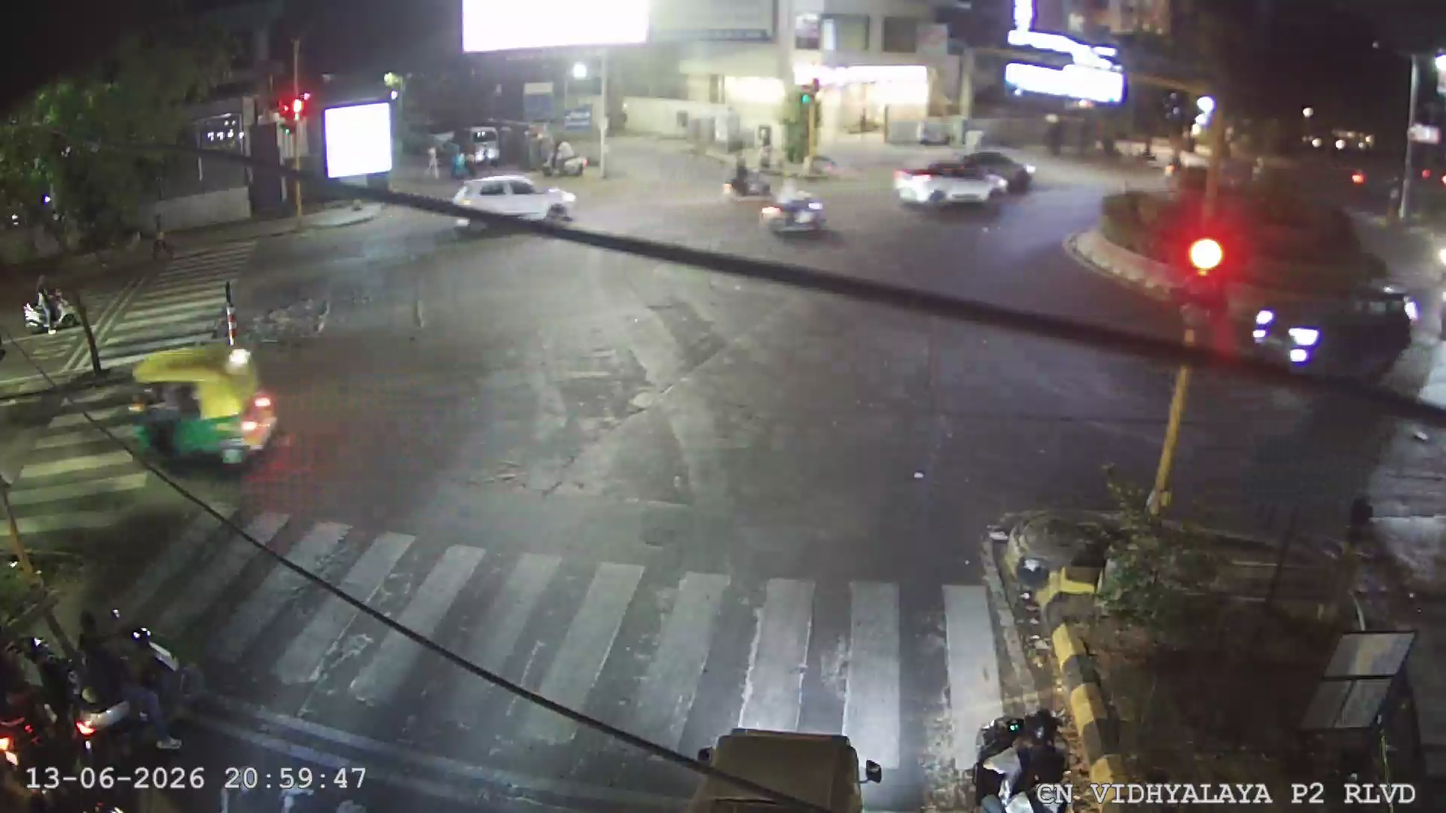auto_rickshaw: (122, 344, 280, 465)
car: (1254, 272, 1429, 385), (448, 168, 579, 236), (890, 153, 1014, 212), (759, 187, 832, 240)
two_wheeler: (1, 567, 212, 775), (18, 275, 89, 334)
